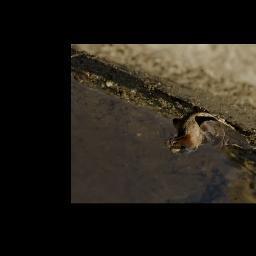Swallow: (166, 109, 254, 155)
